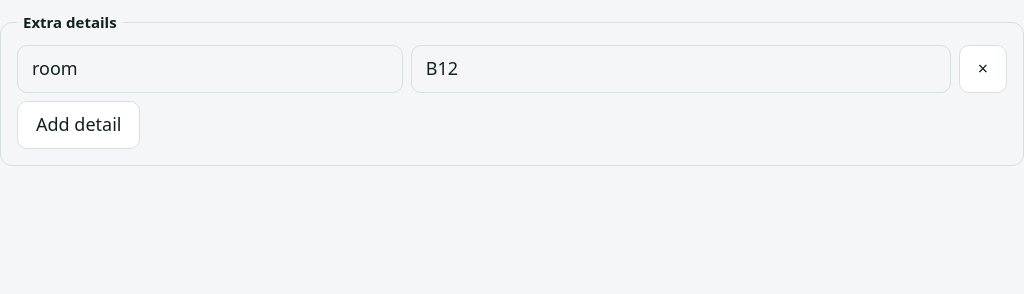
KeyValueEditor › warns about two details with the same name
Click the button "Add detail".
click(79, 125)  # box [17,101,140,149]
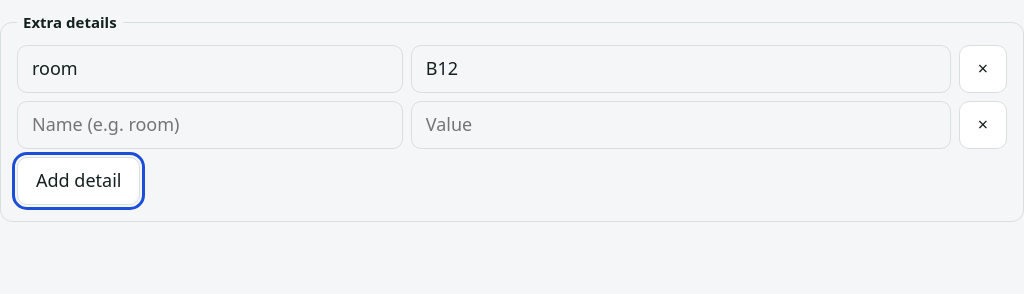
Type "room" into the field named "Detail 2 name".
click(210, 125); type("room")  # box [17,101,403,149]
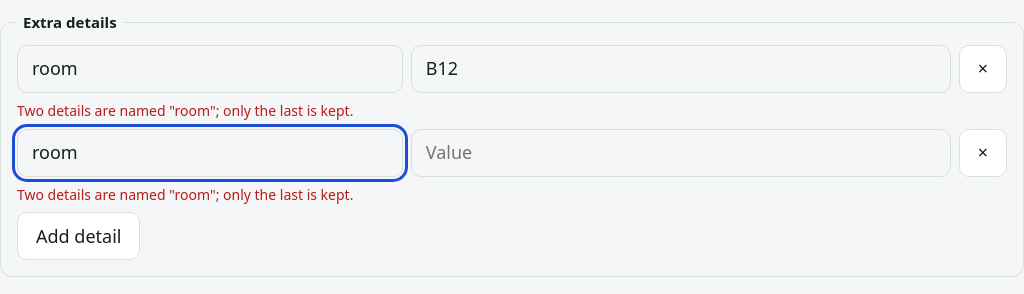
Check: the 1st text "Two details are named \"room\"; only the last is kept." is shown, box [17,101,353,120]
